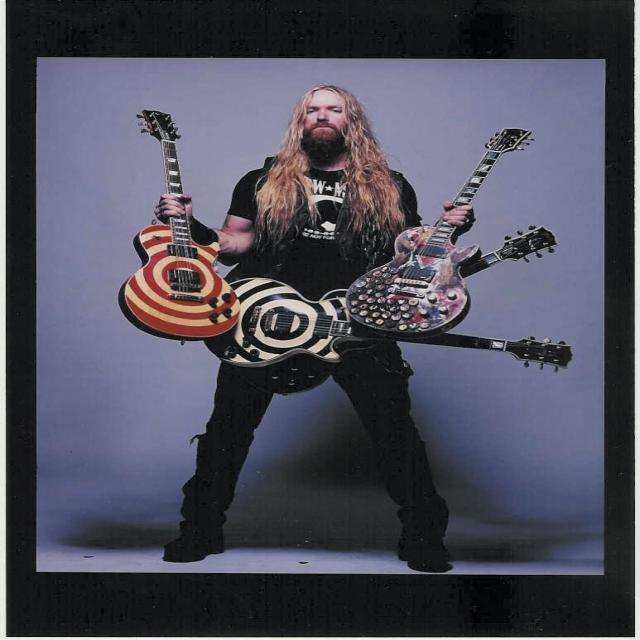guitar: (344, 121, 542, 342), (188, 274, 574, 374), (118, 106, 245, 344)
